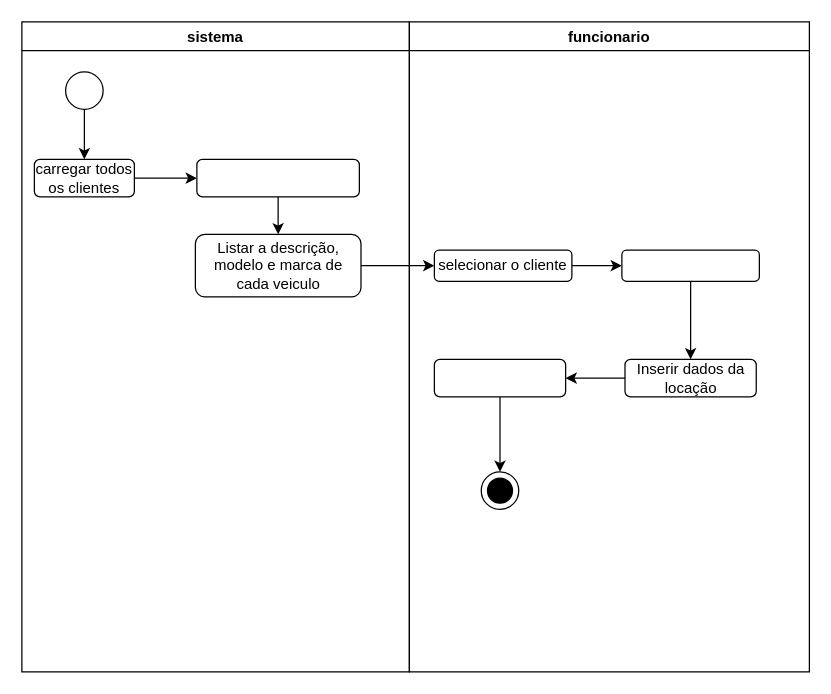
This 831x694 diagram has some shape labels left out. Here are the shapes that lost their labels. From the top down, the centre of each, then its label:
pixel 277 177: Apresentar veiculos disponiveis
pixel 690 265: selecionar o veiculo
pixel 499 377: Gerar locação
